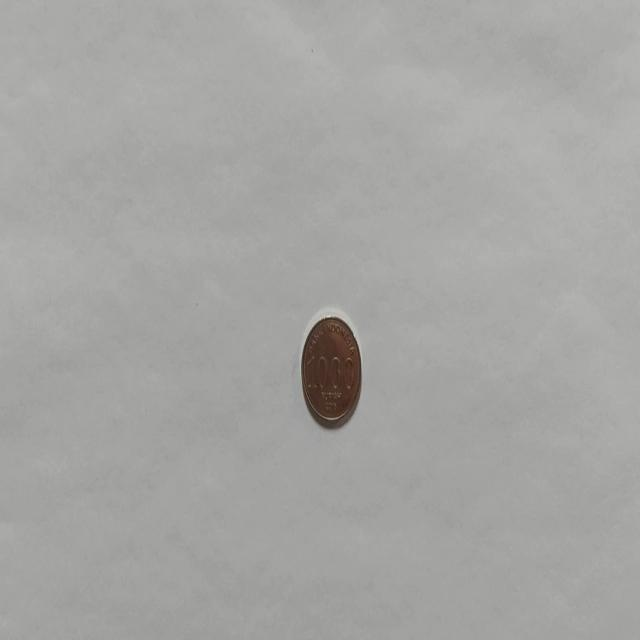seribu rupiah koin: (300, 311, 362, 429)
